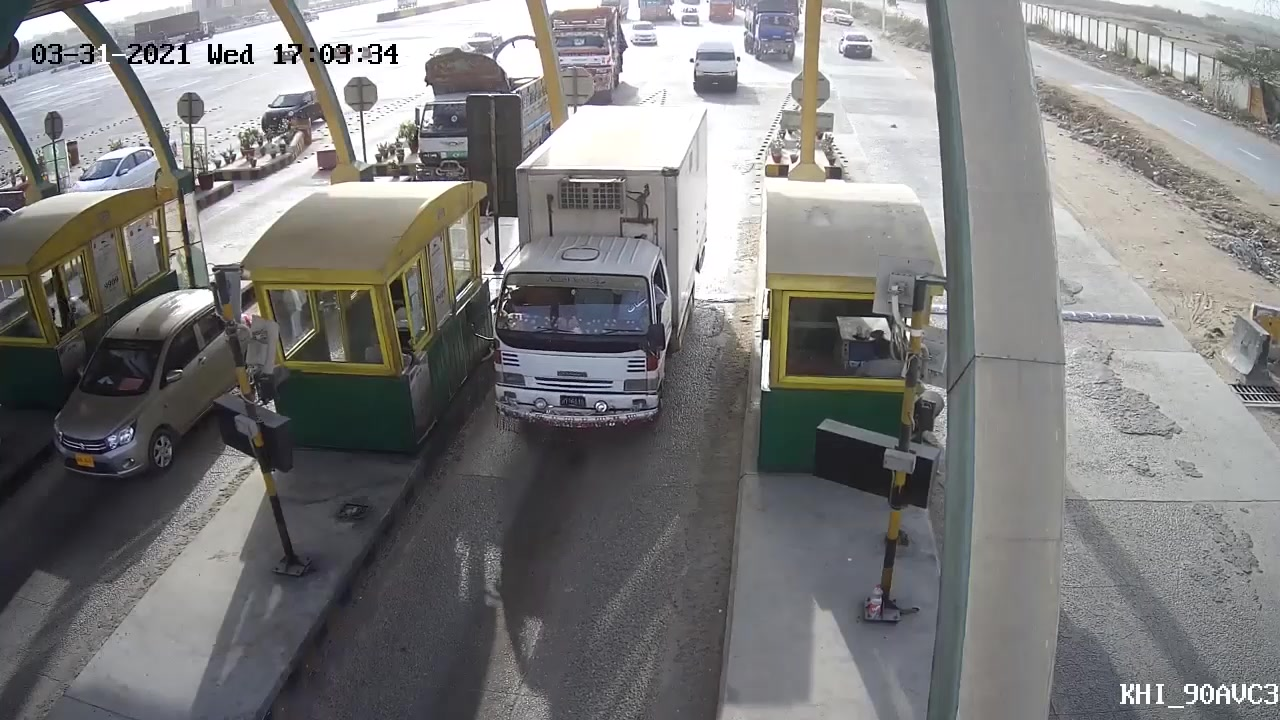F5: (470, 94, 725, 454)
